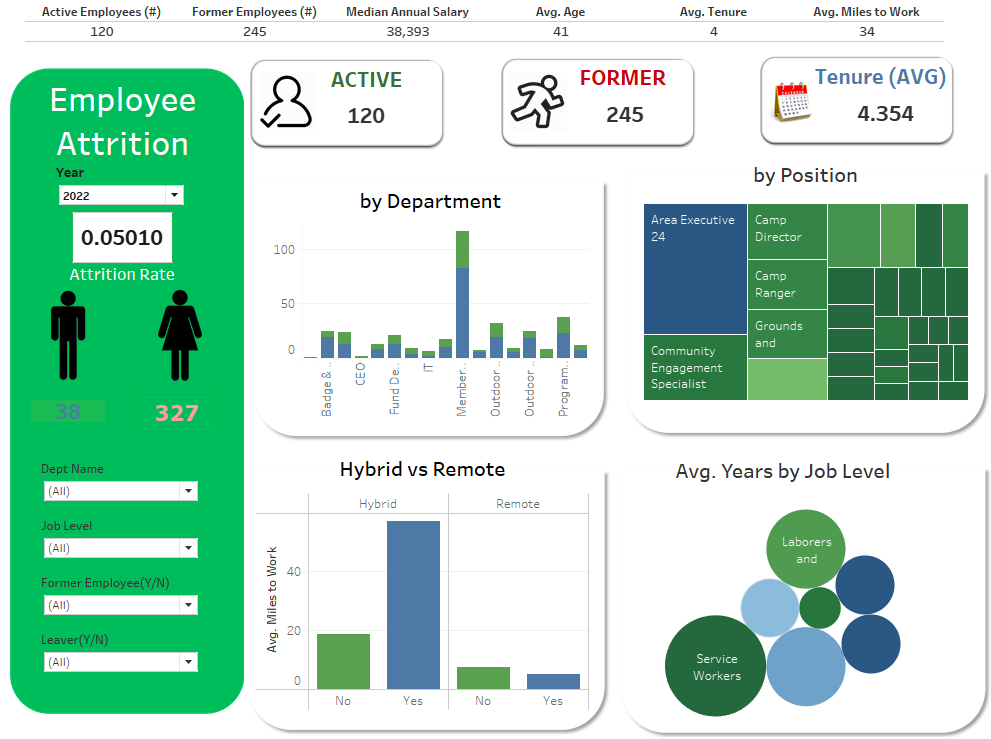

The dashboard page shown, as its layout file describes it:
{"tool":"tableau","page":{"name":"Dashboard 1","canvas":[1000,800],"ordinal":0},"visuals":[{"type":"text","box":[16,5,269,64]},{"type":"worksheet","title":"KPI","mark":"Automatic","box":[20,50,941,90]},{"type":"text","box":[589,107,108,66]},{"type":"text","box":[807,107,146,66]},{"type":"text","box":[325,110,108,66]},{"type":"image","param":"Image/small_outline.png","box":[515,114,209,86]},{"type":"image","param":"Image/small_outline 1.png","box":[248,116,209,86]},{"type":"image","param":"Image/small_outline.png","box":[772,117,209,86]},{"type":"image","param":"Image/Leaver.png","box":[522,123,66,69]},{"type":"image","param":"Image/Active.png","box":[266,125,59,55]},{"type":"image","param":"Image/Calendar.jpg","box":[767,138,52,57]},{"type":"text","box":[25,140,185,113]},{"type":"worksheet","title":"Former(#)","mark":"Automatic","box":[597,141,120,71]},{"type":"worksheet","title":"Active(#)","mark":"Automatic","box":[323,144,120,71]},{"type":"worksheet","title":"Time w/ Comp","mark":"Automatic","box":[833,147,120,75]},{"type":"worksheet","title":"Age","mark":"Automatic","box":[626,217,333,262]},{"type":"legend","title":"Dept","param":"[federated.1afa7fd1sgv89p14da9zd0aywhz8].[none:Leaver(Y/N):nk]","box":[890,218,96,58]},{"type":"worksheet","title":"Dept","mark":"Automatic","cols":["Dept_Name"],"box":[263,224,317,252]},{"type":"image","param":"Image/Outline.png","box":[617,233,370,269]},{"type":"image","param":"Image/Outline.png","box":[246,243,360,267]},{"type":"filter","title":"Annual Attrition Rates","param":"[federated.1w7ha3o00dfkmu12qjwyb0118hxa].[tyr:Calendar:ok]","box":[50,260,131,47]},{"type":"text","box":[47,302,132,85]},{"type":"worksheet","title":"Annual Attrition Rates","mark":"Automatic","cols":["Calendar"],"box":[58,306,115,63]},{"type":"image","param":"Image/female icon.png","box":[120,380,96,96]},{"type":"image","param":"Image/male icon.png","box":[19,382,97,93]},{"type":"worksheet","title":"Male","mark":"Automatic","rows":["Gender"],"box":[35,459,70,65]},{"type":"worksheet","title":"Femaie","mark":"Automatic","rows":["Gender"],"box":[137,459,62,58]},{"type":"worksheet","title":"Left by distance","mark":"Line","rows":["Calculation_5294473950060093440"],"box":[633,515,333,267]},{"type":"worksheet","title":"Attrition by Position","mark":"Automatic","rows":["Position"],"cols":["Calculation_5294473950060093440"],"box":[256,516,333,262]},{"type":"filter","title":"Dept","param":"[federated.1afa7fd1sgv89p14da9zd0aywhz8].[none:Dept_Name:nk]","box":[30,523,160,50]},{"type":"image","param":"Image/Outline.png","box":[613,529,375,268]},{"type":"image","param":"Image/Outline.png","box":[240,532,367,269]},{"type":"filter","title":"Left by distance","param":"[federated.1afa7fd1sgv89p14da9zd0aywhz8].[Action (Position)]","box":[30,579,160,43]},{"type":"filter","title":"Age","param":"[federated.1afa7fd1sgv89p14da9zd0aywhz8].[Age (group)]","box":[31,635,160,49]},{"type":"filter","title":"Attrition by Position","param":"[federated.1afa7fd1sgv89p14da9zd0aywhz8].[none:DistancetoWork(miles):qk]","box":[32,691,160,61]}]}

Visuals, with their boxes on the page's 1000x800 design canvas (x1, y1, x2, y2). These are canvas units, not pixel positions in the 991x739 screenshot, which may show the page scaled, cropped or inside an application window:
text: (16,5,285,69)
"KPI" worksheet: (20,50,961,140)
text: (589,107,697,173)
text: (807,107,953,173)
text: (325,110,433,176)
image: (515,114,724,200)
image: (248,116,457,202)
image: (772,117,981,203)
image: (522,123,588,192)
image: (266,125,325,180)
image: (767,138,819,195)
text: (25,140,210,253)
"Former(#)" worksheet: (597,141,717,212)
"Active(#)" worksheet: (323,144,443,215)
"Time w/ Comp" worksheet: (833,147,953,222)
"Age" worksheet: (626,217,959,479)
"Dept" legend: (890,218,986,276)
"Dept" worksheet: (263,224,580,476)
image: (617,233,987,502)
image: (246,243,606,510)
"Annual Attrition Rates" filter: (50,260,181,307)
text: (47,302,179,387)
"Annual Attrition Rates" worksheet: (58,306,173,369)
image: (120,380,216,476)
image: (19,382,116,475)
"Male" worksheet: (35,459,105,524)
"Femaie" worksheet: (137,459,199,517)
"Left by distance" worksheet (Line marks): (633,515,966,782)
"Attrition by Position" worksheet: (256,516,589,778)
"Dept" filter: (30,523,190,573)
image: (613,529,988,797)
image: (240,532,607,801)
"Left by distance" filter: (30,579,190,622)
"Age" filter: (31,635,191,684)
"Attrition by Position" filter: (32,691,192,752)
